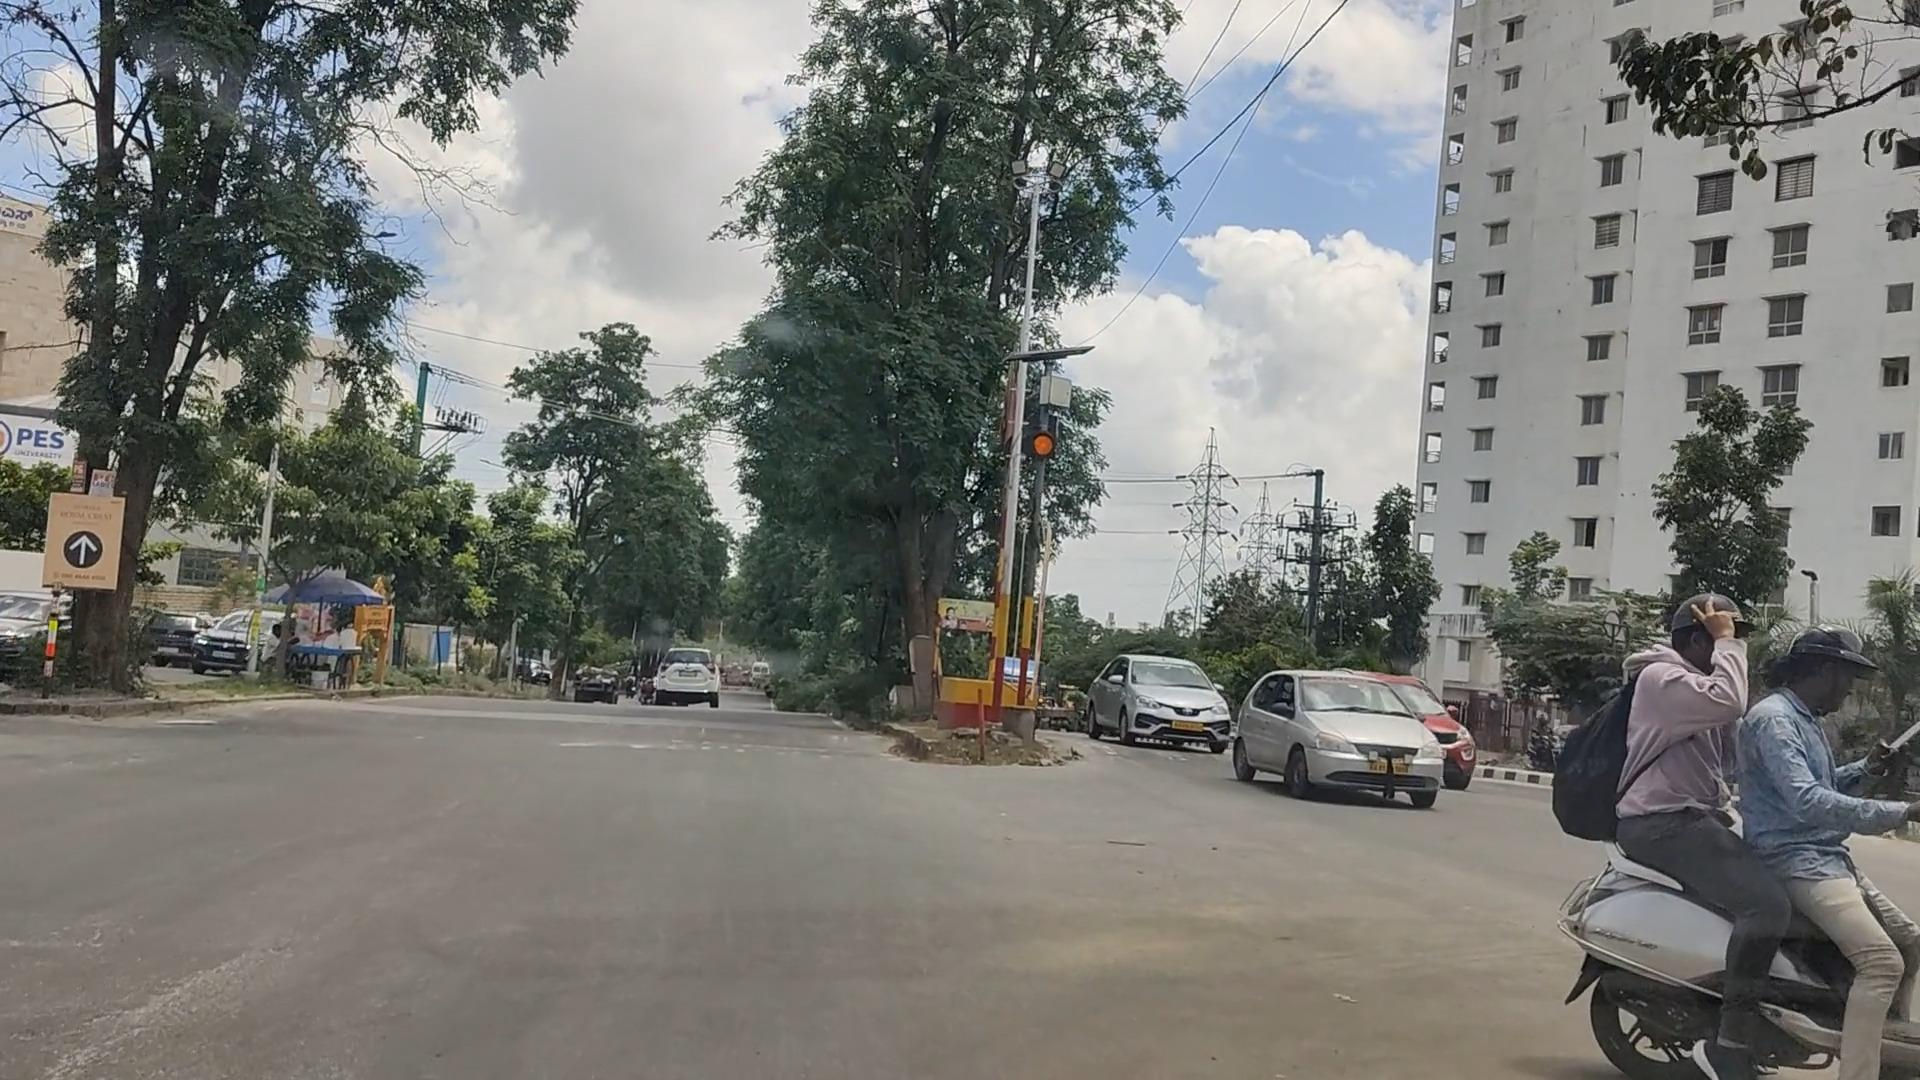RoadDamages: (44, 932, 286, 1080)
